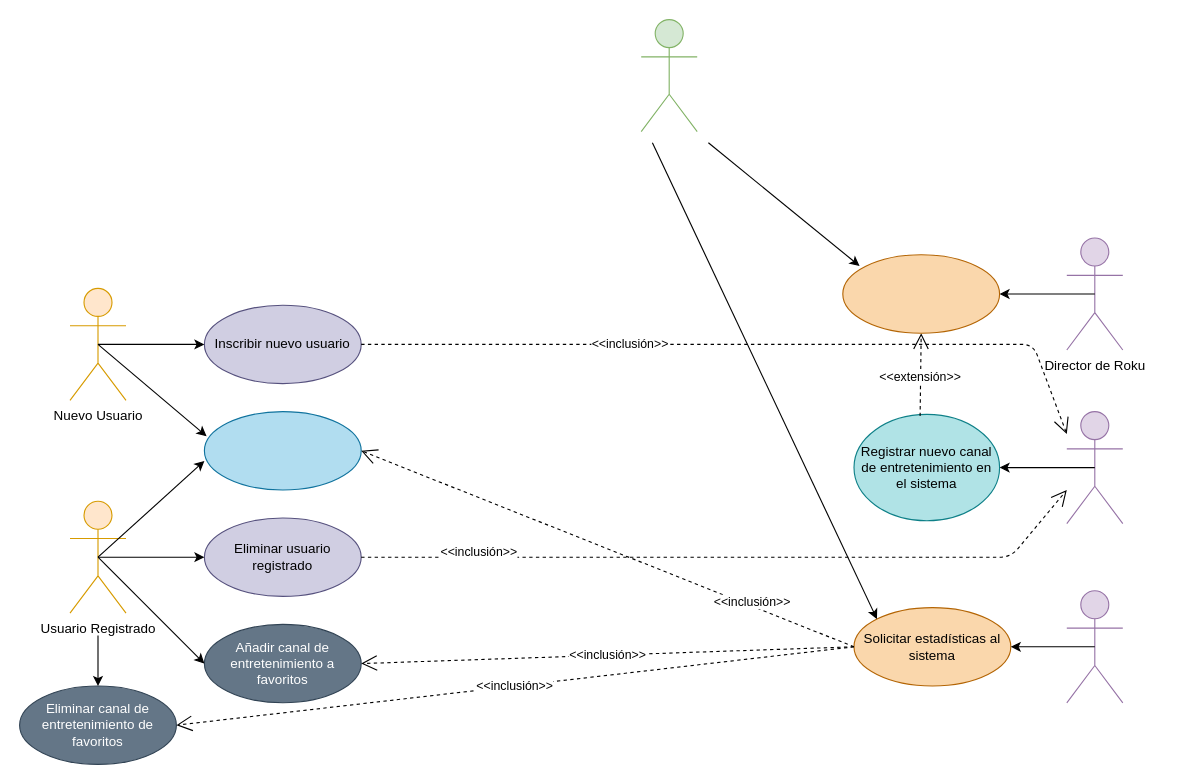
This 1197x784 diagram has some shape labels left out. The shapes that lost their labels are listed below. From the top down, each one's centre as x and y in pixels, then its label:
the point at 668,75: Empresa propietaria del canal
the point at 921,293: Cancela el registro de el nuevo canal en el sistema
the point at 282,450: Establecer nueva conexion a una red de internet(configuracion)
the point at 1094,467: Programadores
the point at 1094,646: Departamento de marketing
